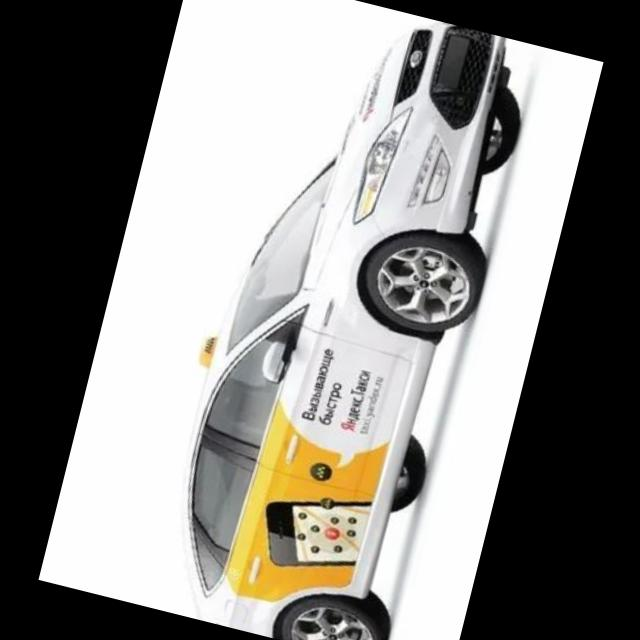taxi: (135, 1, 542, 640)
